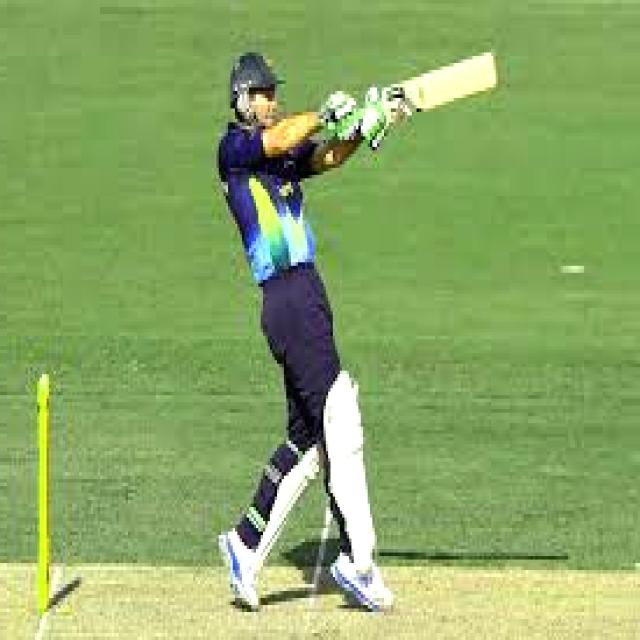toe: (486, 49, 500, 100)
